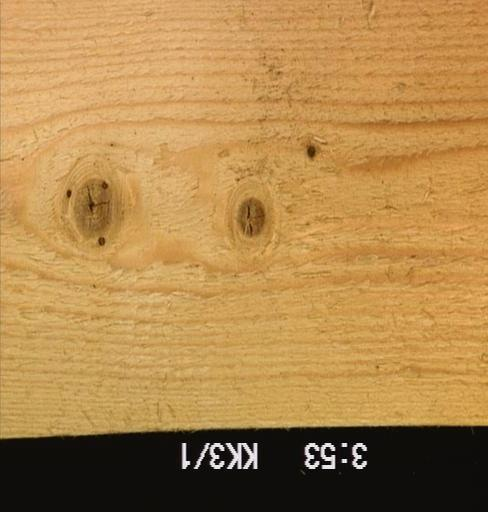dry_knot: (303, 142, 317, 161)
sound_knot: (65, 177, 116, 249), (235, 195, 267, 240)
